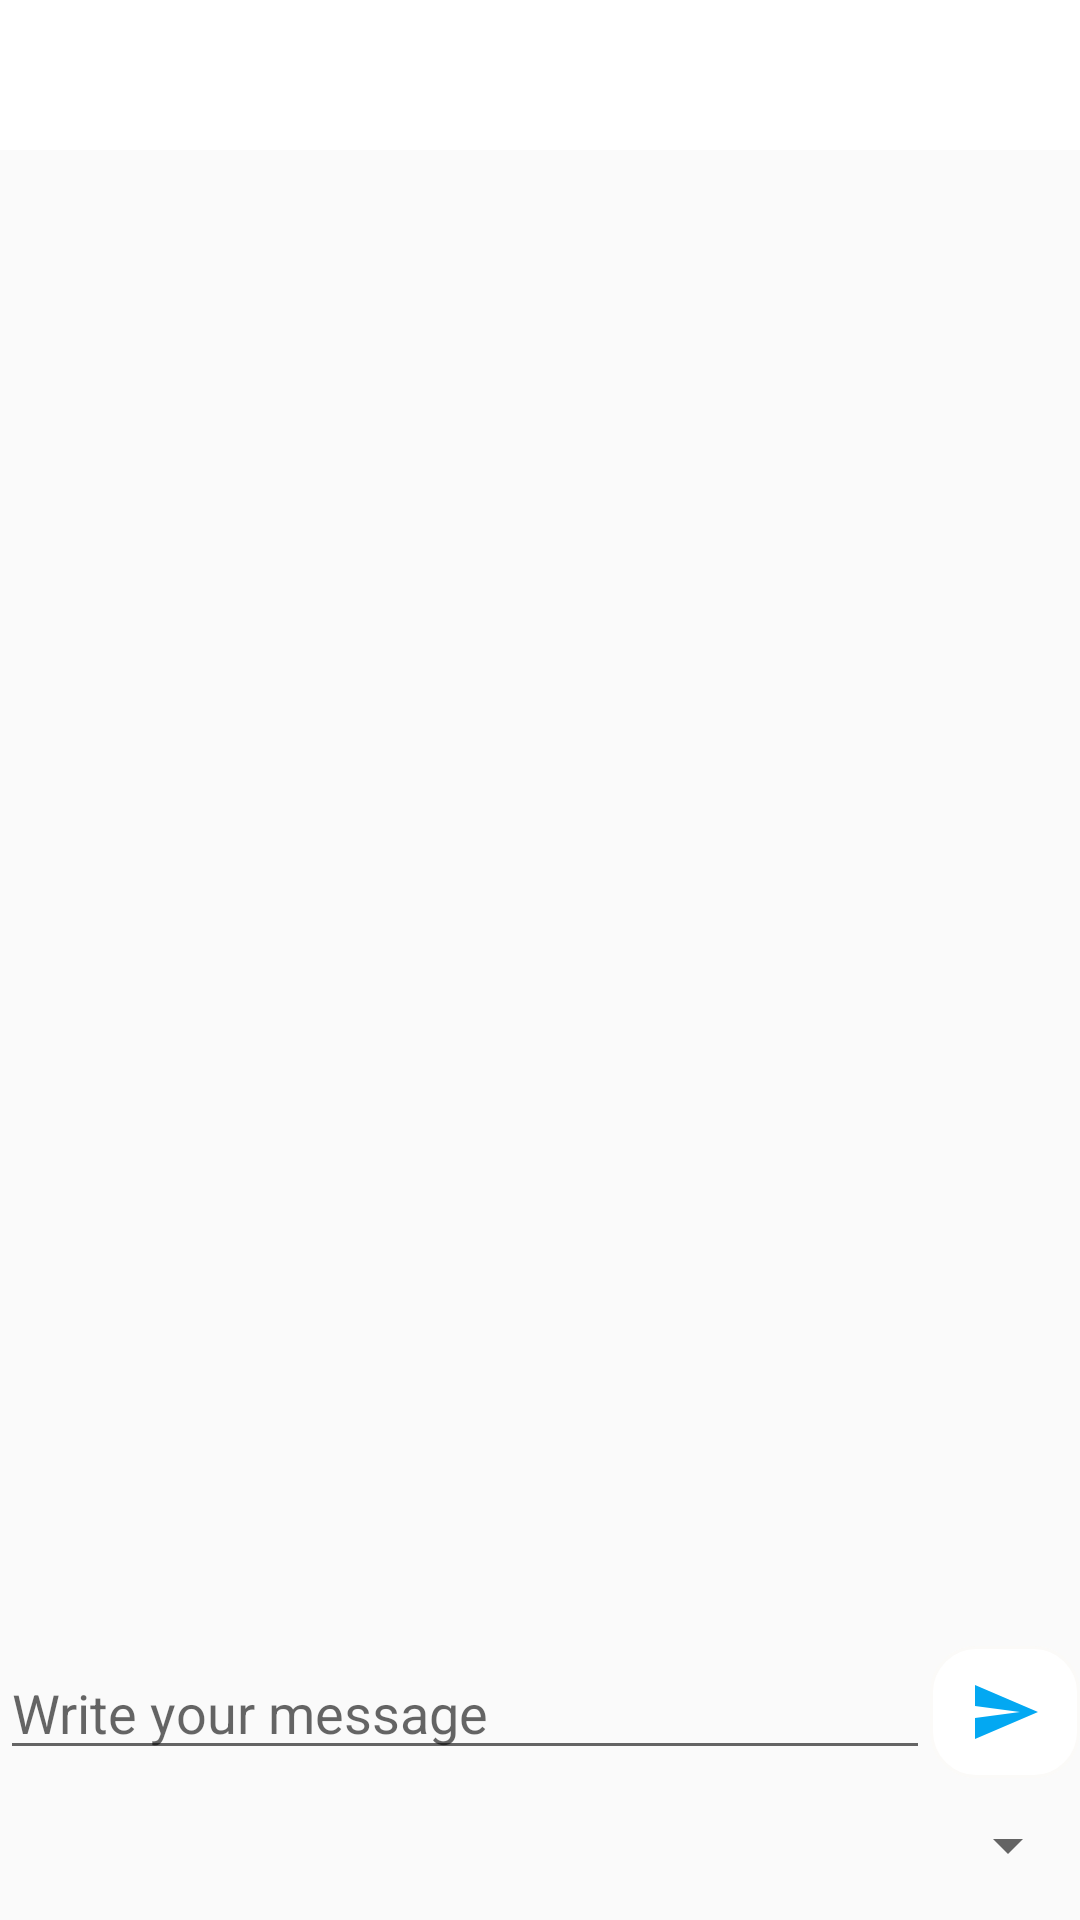

Point at icon controls on the screen. Image size 1080*1920, points as point (x, y).
send: point (1006, 1712)
